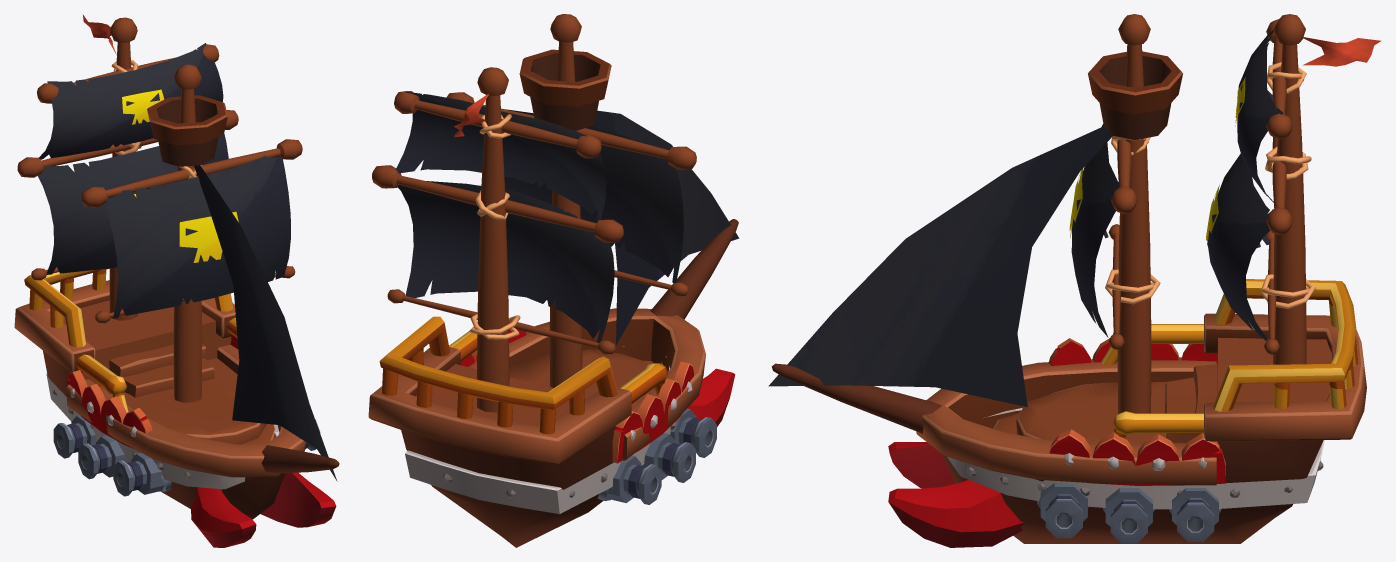
File: BigShipA.fbx
The picture shows the model from 3 angles, left to right: view 1: azimuth 30°, elevation 25°; view 2: azimuth 150°, elevation 25°; view 3: azimuth 270°, elevation 25°; orthographic projection. The views are drawn at different scales.
Parts seen in each view (by area): view 1: Color_Cloth_01, Color_01, Armor_Color_16, Armor_Color_17, Armor_Color_12, Armor_Color_15; view 2: Color_01, Color_Cloth_01, Armor_Color_15, Armor_Color_17, Armor_Color_12, Armor_Color_16; view 3: Color_01, Color_Cloth_01, Armor_Color_16, Armor_Color_18, Armor_Color_15, Armor_Color_13, Armor_Color_12.
Boxes of the visible parts, left/top/right/bottom form: Color_Cloth_01: left=38, top=15, right=337, bottom=481; Color_01: left=14, top=17, right=339, bottom=519; Armor_Color_16: left=191, top=472, right=336, bottom=547; Armor_Color_17: left=53, top=415, right=164, bottom=496; Armor_Color_12: left=66, top=370, right=152, bottom=448; Armor_Color_15: left=46, top=373, right=279, bottom=489; Color_01: left=368, top=14, right=738, bottom=547; Color_Cloth_01: left=395, top=91, right=739, bottom=345; Armor_Color_15: left=405, top=346, right=670, bottom=514; Armor_Color_17: left=607, top=408, right=716, bottom=504; Armor_Color_12: left=612, top=361, right=693, bottom=463; Armor_Color_16: left=687, top=368, right=735, bottom=426; Color_01: left=771, top=14, right=1366, bottom=543; Color_Cloth_01: left=768, top=30, right=1381, bottom=406; Armor_Color_16: left=888, top=427, right=1023, bottom=547; Armor_Color_18: left=1040, top=482, right=1219, bottom=543; Armor_Color_15: left=947, top=408, right=1324, bottom=509; Armor_Color_13: left=1049, top=429, right=1225, bottom=485; Armor_Color_12: left=1049, top=338, right=1217, bottom=365.
Size of the model in its own units: 18.21 by 34.41 by 36.15.
